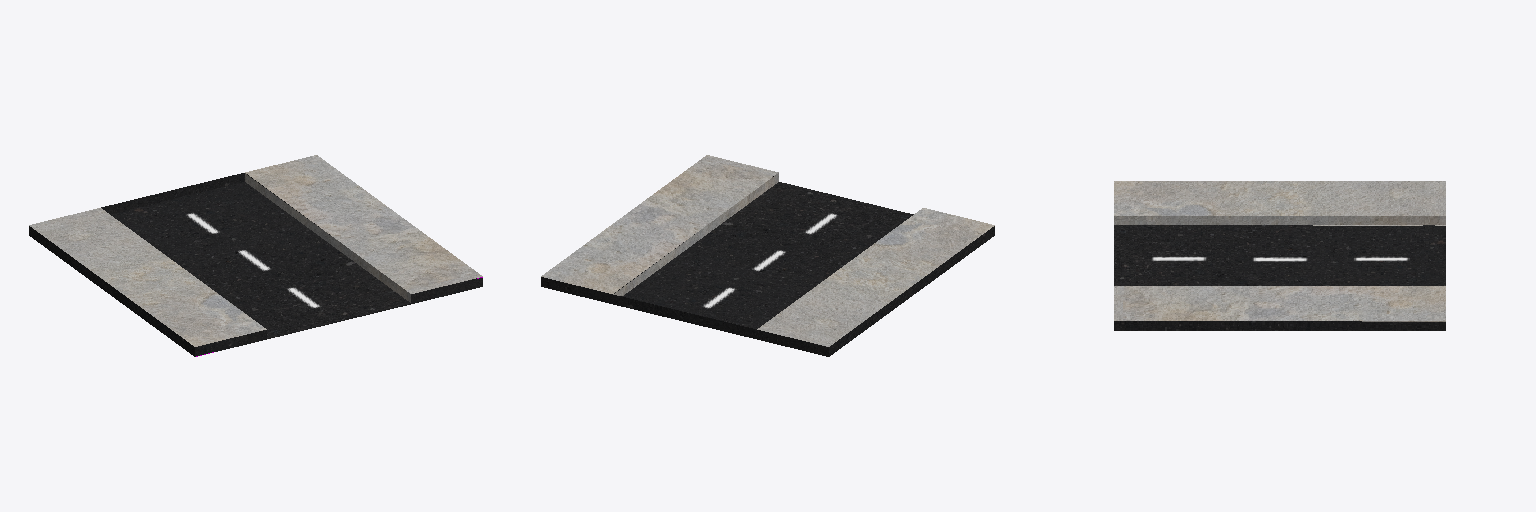
The picture shows the model from 3 angles: view 1: azimuth 30°, elevation 25°; view 2: azimuth 150°, elevation 25°; view 3: azimuth 270°, elevation 25°; orthographic projection.
Visible parts, largest first — view 1: street_s; view 2: street_s; view 3: street_s.
Part boxes in pixels (bbox=[...]): street_s: bbox=[29, 155, 482, 356]; street_s: bbox=[541, 155, 994, 356]; street_s: bbox=[1114, 181, 1445, 330].
Size of the model in its own units: 2 by 0.0663 by 2.
Materials: 1 (1 with a texture image).